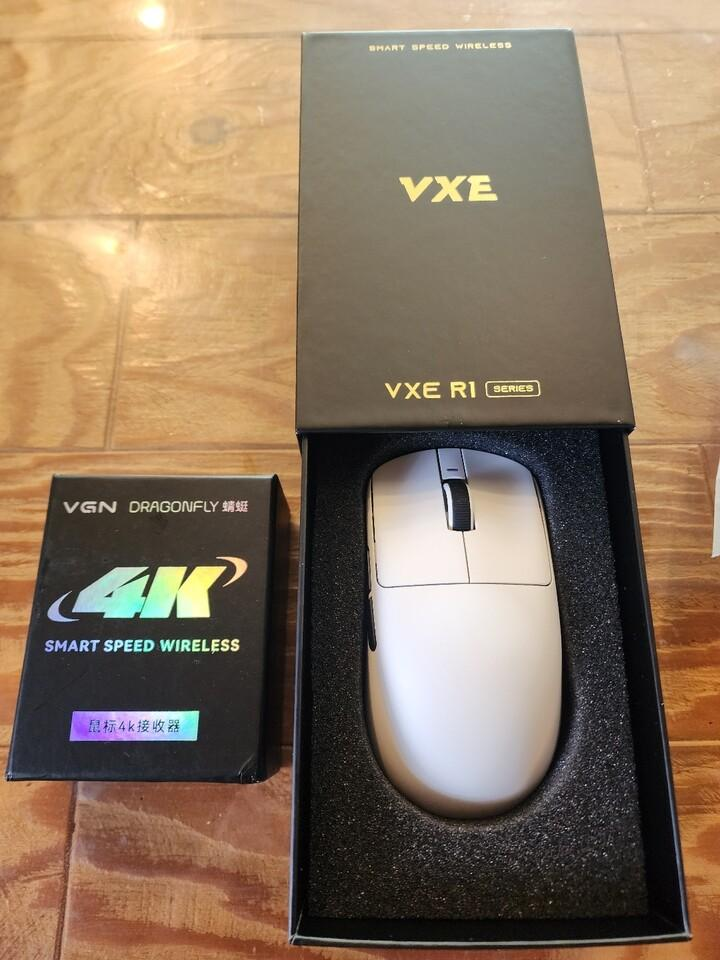mouse: (362, 445, 563, 819)
